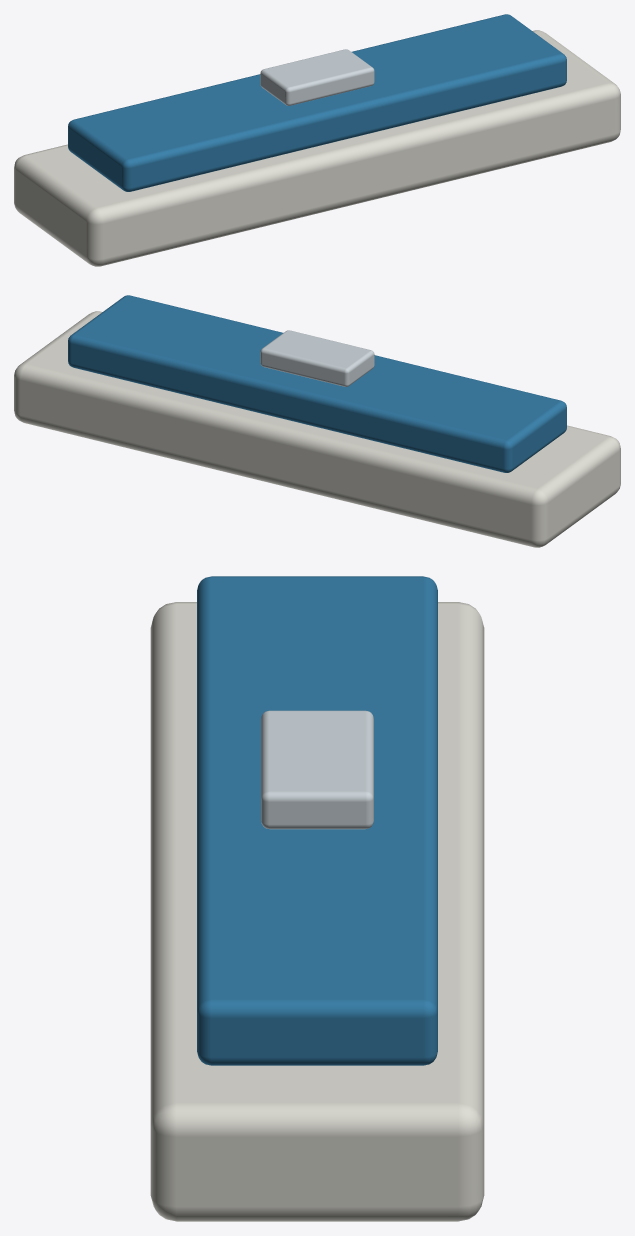
File: curling-club-and-ice-maintenance-broom-head-cartridge-21b2cb3e__31268.glb
3 renders of one model, top to bottom at view 1: azimuth 30°, elevation 25°; view 2: azimuth 150°, elevation 25°; view 3: azimuth 270°, elevation 25°, orthographic. The views are drawn at different scales.
Visible parts, largest first — view 1: broom-head-cartridge; view 2: broom-head-cartridge; view 3: broom-head-cartridge.
Part boxes in pixels (left/top/right/bottom): broom-head-cartridge: left=14, top=14, right=620, bottom=266; broom-head-cartridge: left=14, top=295, right=620, bottom=547; broom-head-cartridge: left=150, top=576, right=484, bottom=1221.
Size of the model in its own units: 0.24 by 0.047 by 0.065.
